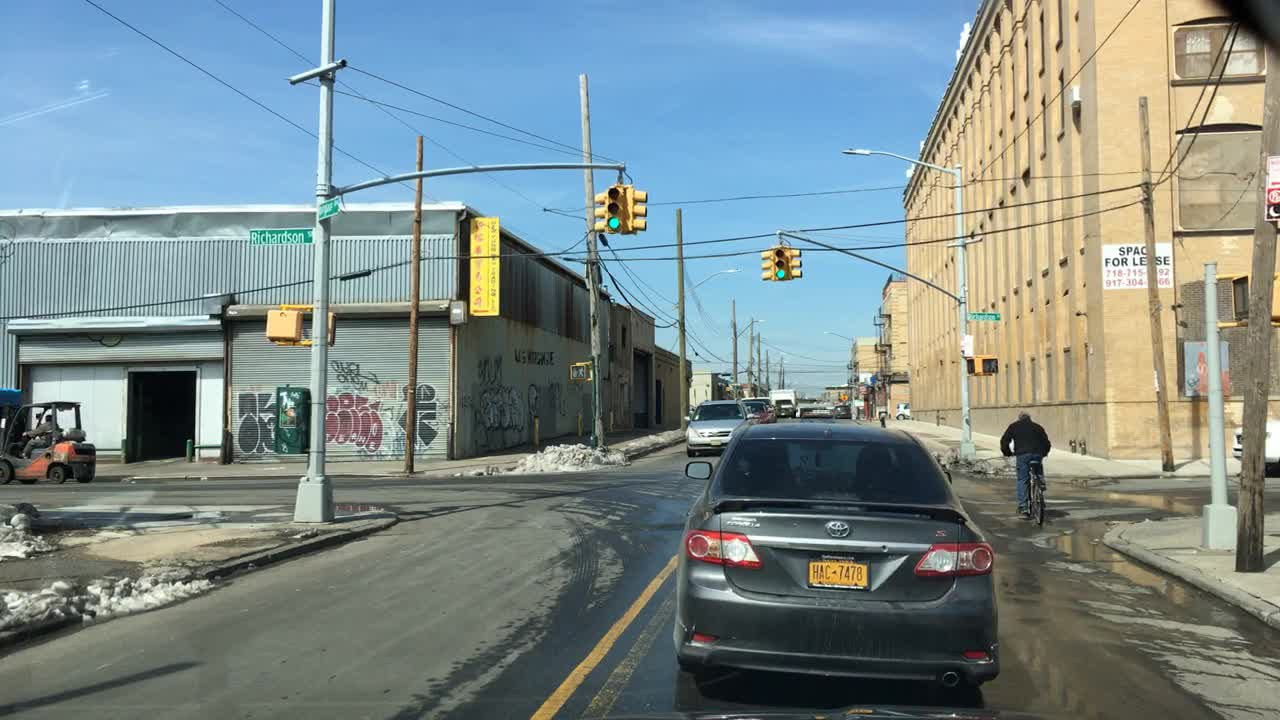bike: (1004, 448, 1049, 526)
car: (673, 411, 1004, 693), (681, 398, 754, 457), (1232, 413, 1279, 477), (744, 394, 774, 421), (800, 401, 830, 420), (776, 398, 796, 421), (894, 401, 909, 421), (833, 403, 854, 416)
rider: (1000, 410, 1049, 509)
traffic light: (1232, 268, 1277, 325), (265, 308, 298, 344), (627, 188, 648, 234), (606, 187, 622, 232), (592, 188, 604, 234), (786, 248, 801, 278), (774, 246, 786, 281), (977, 354, 995, 376), (762, 248, 773, 281), (327, 313, 337, 349), (963, 354, 975, 374), (572, 366, 587, 377)
traffic sign: (248, 229, 314, 246), (1264, 160, 1279, 224), (314, 197, 337, 221), (967, 310, 999, 322)
truck: (0, 399, 94, 484), (771, 391, 793, 404)
